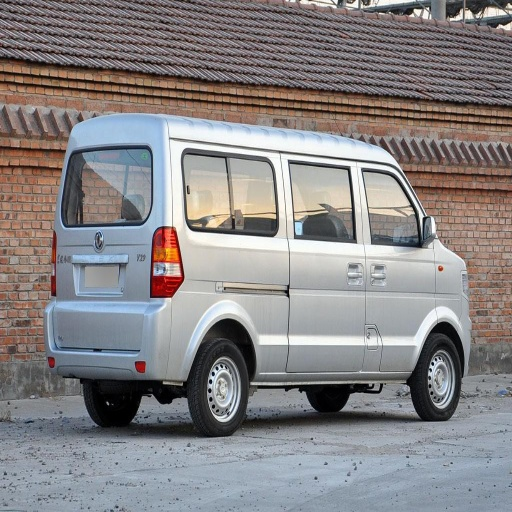back_bumper: (45, 298, 151, 378)
back_glass: (63, 147, 150, 225)
back_right_door: (176, 147, 361, 292)
tailgate: (57, 223, 123, 300)
trunk: (58, 226, 327, 381), (399, 288, 465, 355)
